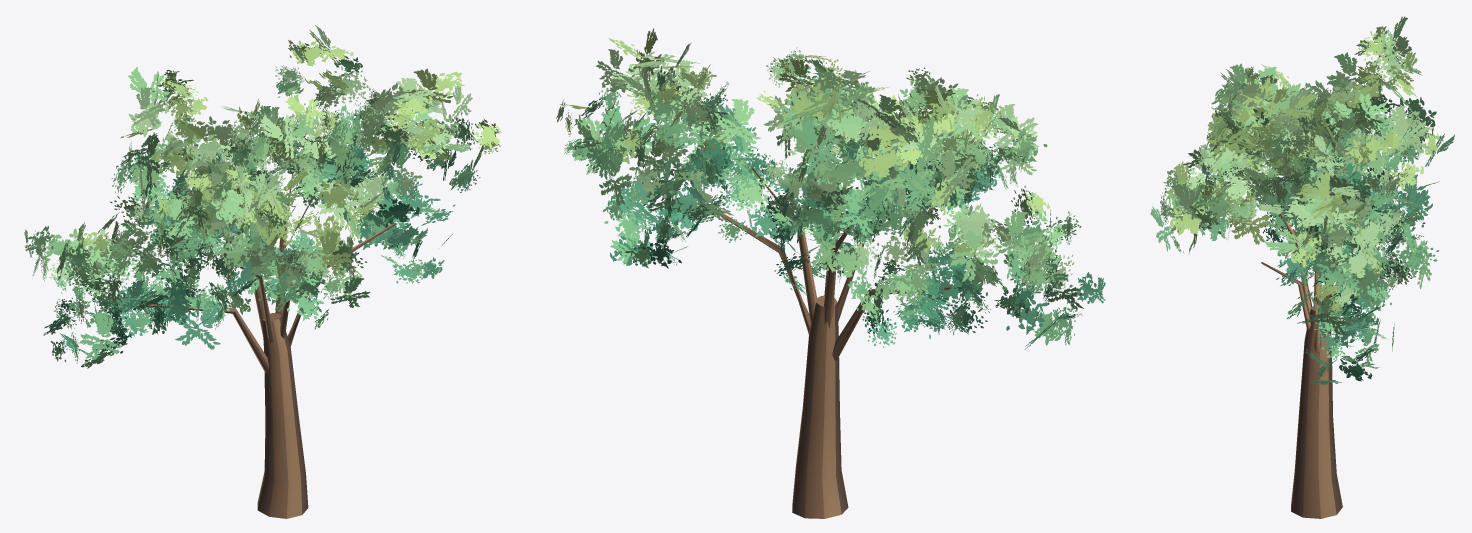
File: Tree_02_Broad_Meadow_LOD1.glb
3 views of the same model, side by side, from view 1: azimuth 30°, elevation 25°; view 2: azimuth 150°, elevation 25°; view 3: azimuth 270°, elevation 25° (orthographic). The views are drawn at different scales.
Parts seen in each view (by area): view 1: Tree_02_Broad_Meadow_LOD1; view 2: Tree_02_Broad_Meadow_LOD1; view 3: Tree_02_Broad_Meadow_LOD1.
Boxes of the visible parts, box(x1,y1,x2,y2) form: Tree_02_Broad_Meadow_LOD1: box(24, 25, 501, 518); Tree_02_Broad_Meadow_LOD1: box(556, 28, 1105, 518); Tree_02_Broad_Meadow_LOD1: box(1150, 16, 1454, 518).
Size of the model in its own units: 7.62 by 6.43 by 4.06.
9 materials, 6 textured.
